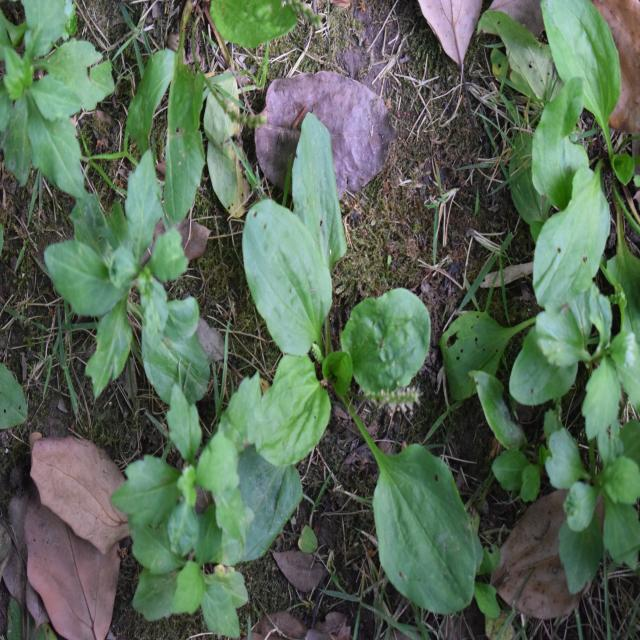plantain: (246, 137, 490, 594)
